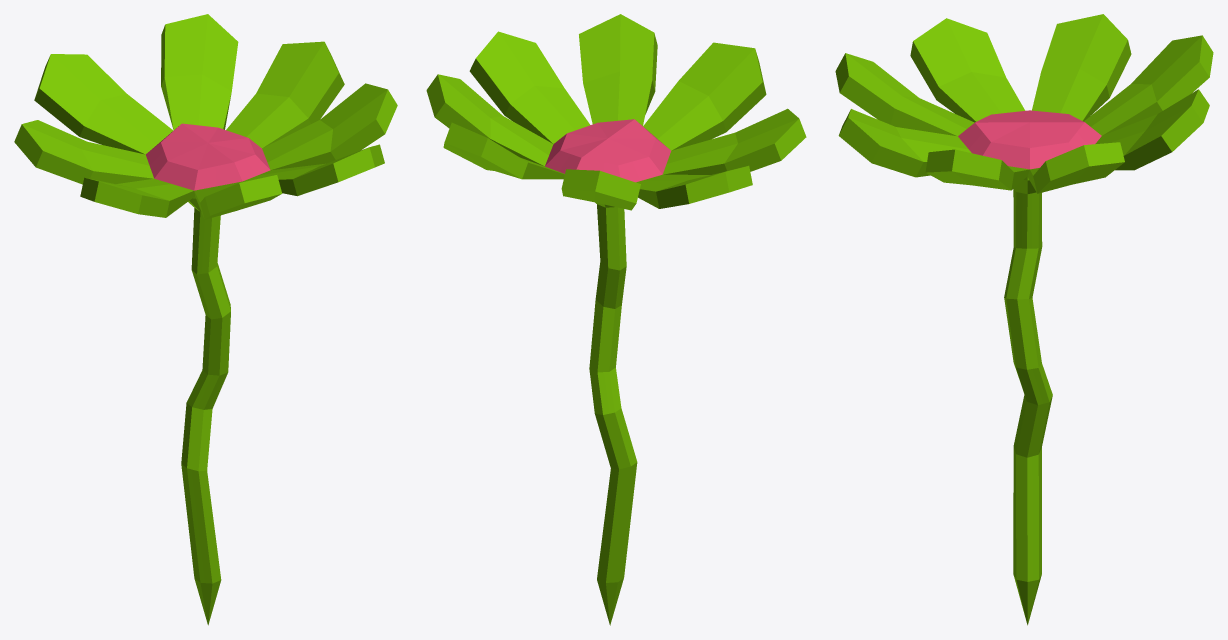
File: JumpPadFlower_02.fbx
3 renders of one model, left to right at view 1: azimuth 30°, elevation 25°; view 2: azimuth 150°, elevation 25°; view 3: azimuth 270°, elevation 25°, orthographic. The views are drawn at different scales.
Parts seen in each view (by area): view 1: JumpPadFlower_03; view 2: JumpPadFlower_03; view 3: JumpPadFlower_03.
Boxes of the visible parts, x1=… form: JumpPadFlower_03: x1=14, y1=14, x2=397, y2=625; JumpPadFlower_03: x1=426, y1=14, x2=806, y2=625; JumpPadFlower_03: x1=835, y1=14, x2=1213, y2=625.
Bounding box in the file's own units: 15.22 × 25.11 × 15.36.
